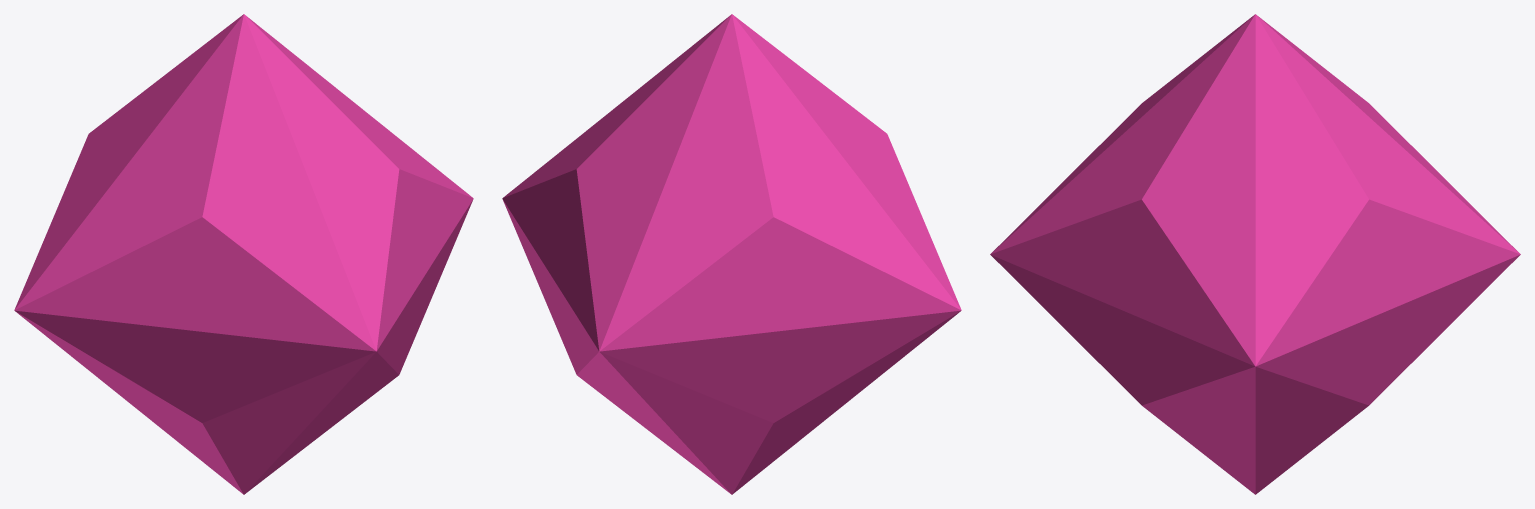
The model's file is triakisoctahedron.gltf.
The picture shows the model from 3 angles, left to right: view 1: azimuth 30°, elevation 25°; view 2: azimuth 150°, elevation 25°; view 3: azimuth 270°, elevation 25°; orthographic projection.
Parts seen in each view (by area): view 1: Solid; view 2: Solid; view 3: Solid.
Boxes of the visible parts, left/top/right/bottom form: Solid: left=14, top=14, right=473, bottom=494; Solid: left=502, top=14, right=961, bottom=494; Solid: left=990, top=14, right=1520, bottom=494.
Bounding box in the file's own units: 1.15 × 1.15 × 1.15.
